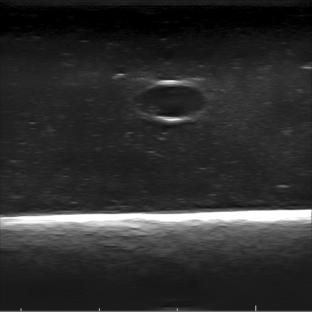vessel: (133, 78, 207, 122)
